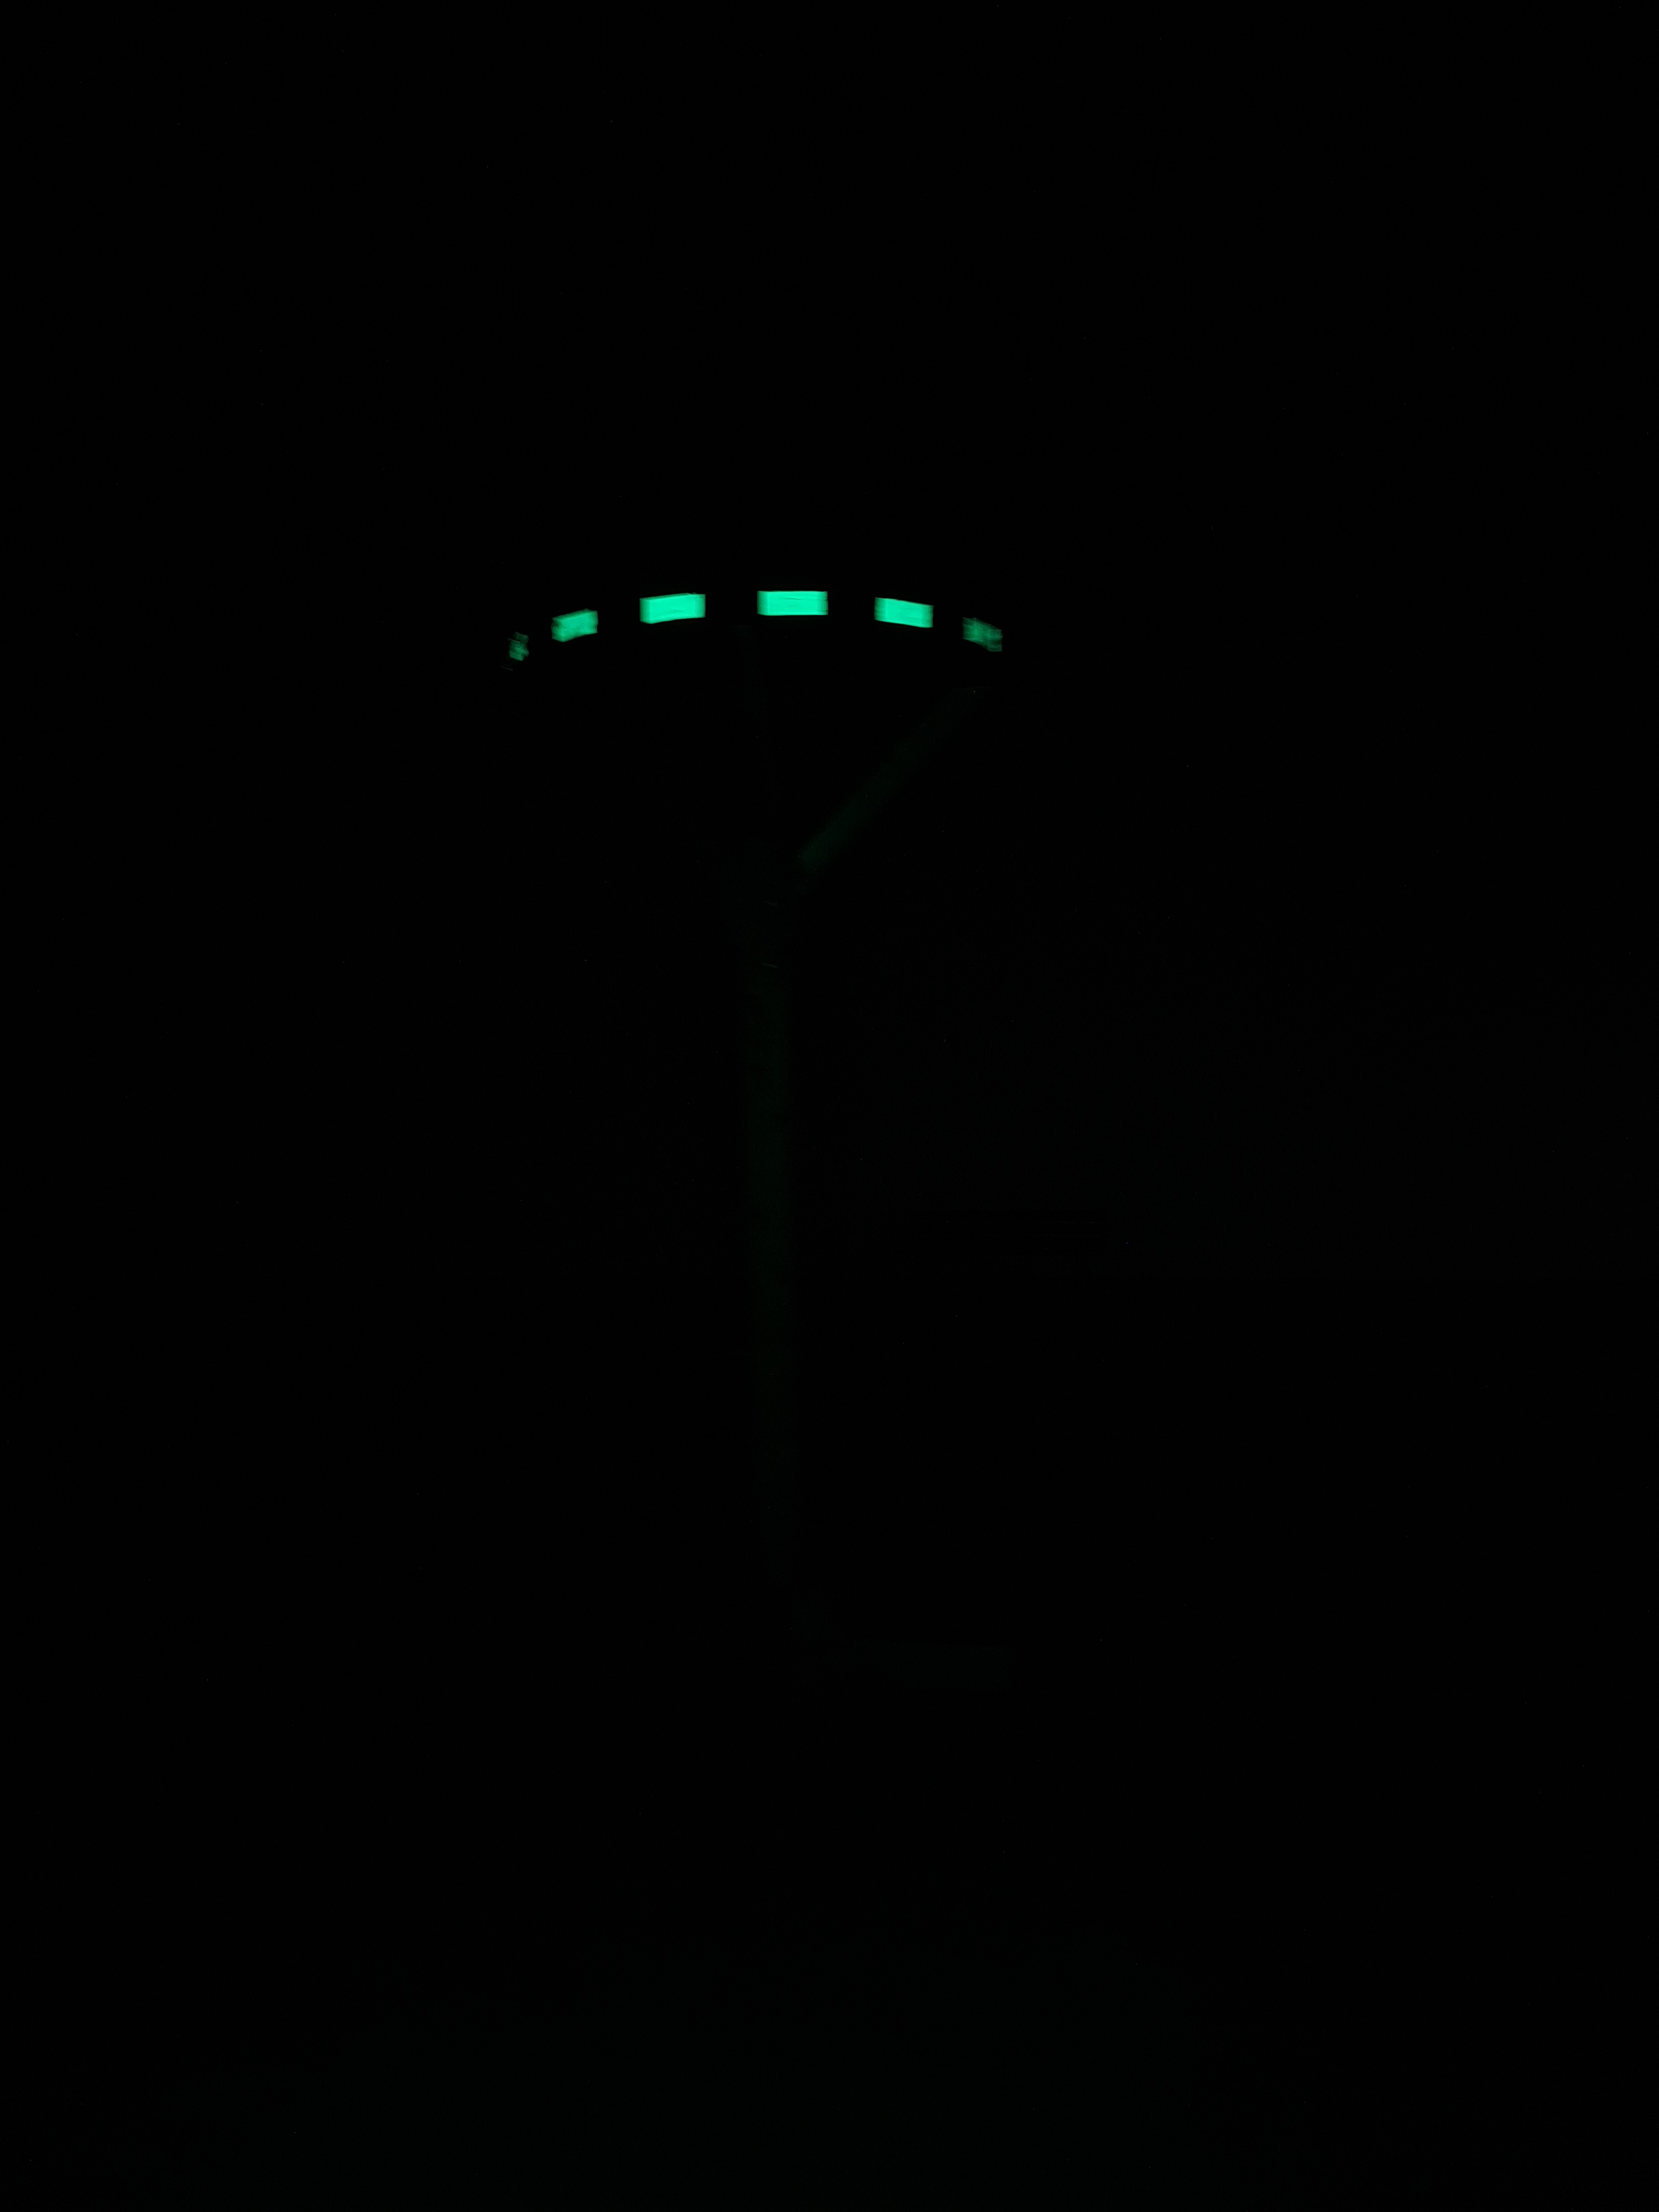hoop: (502, 578, 1009, 669)
